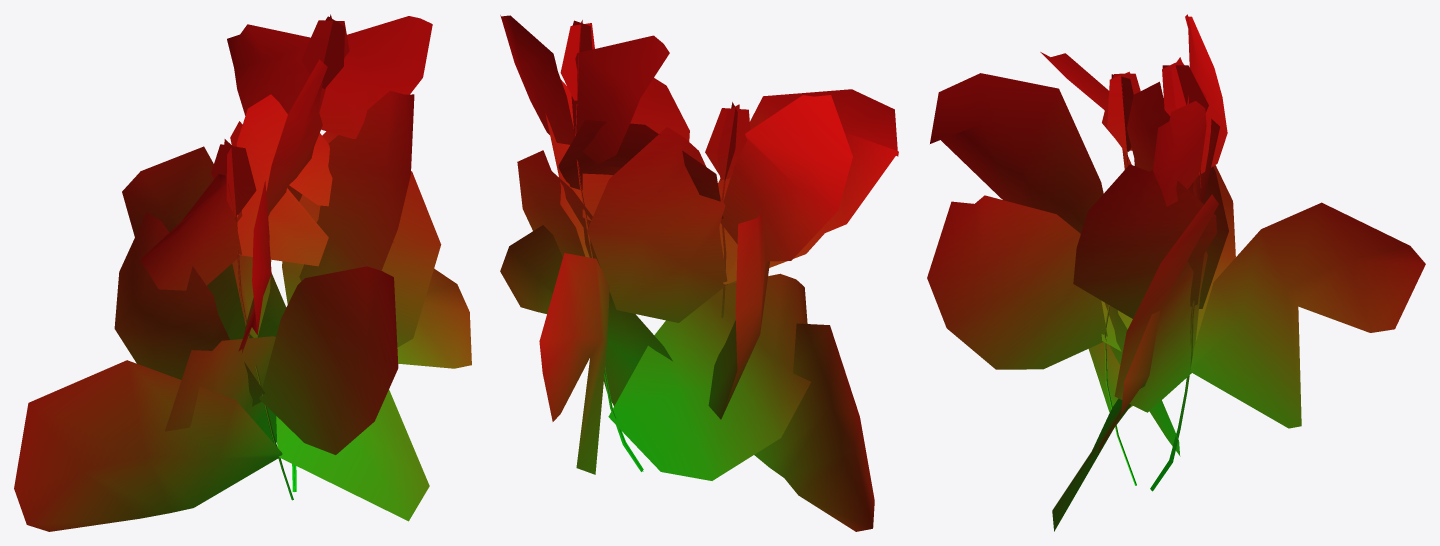
Rendered from White Ramping Fumitory_LOD2_Var3_ti4efc3ia.fbx.
The picture shows the model from 3 angles, left to right: view 1: azimuth 30°, elevation 25°; view 2: azimuth 150°, elevation 25°; view 3: azimuth 270°, elevation 25°; orthographic projection.
Visible parts, largest first — view 1: _7330_Var3_LOD2; view 2: _7330_Var3_LOD2; view 3: _7330_Var3_LOD2.
Boxes of the visible parts, <box> form: _7330_Var3_LOD2: <box>14,14,471,531</box>; _7330_Var3_LOD2: <box>500,15,898,531</box>; _7330_Var3_LOD2: <box>927,14,1425,531</box>.
Size of the model in its own units: 63.27 by 68.25 by 65.41.
